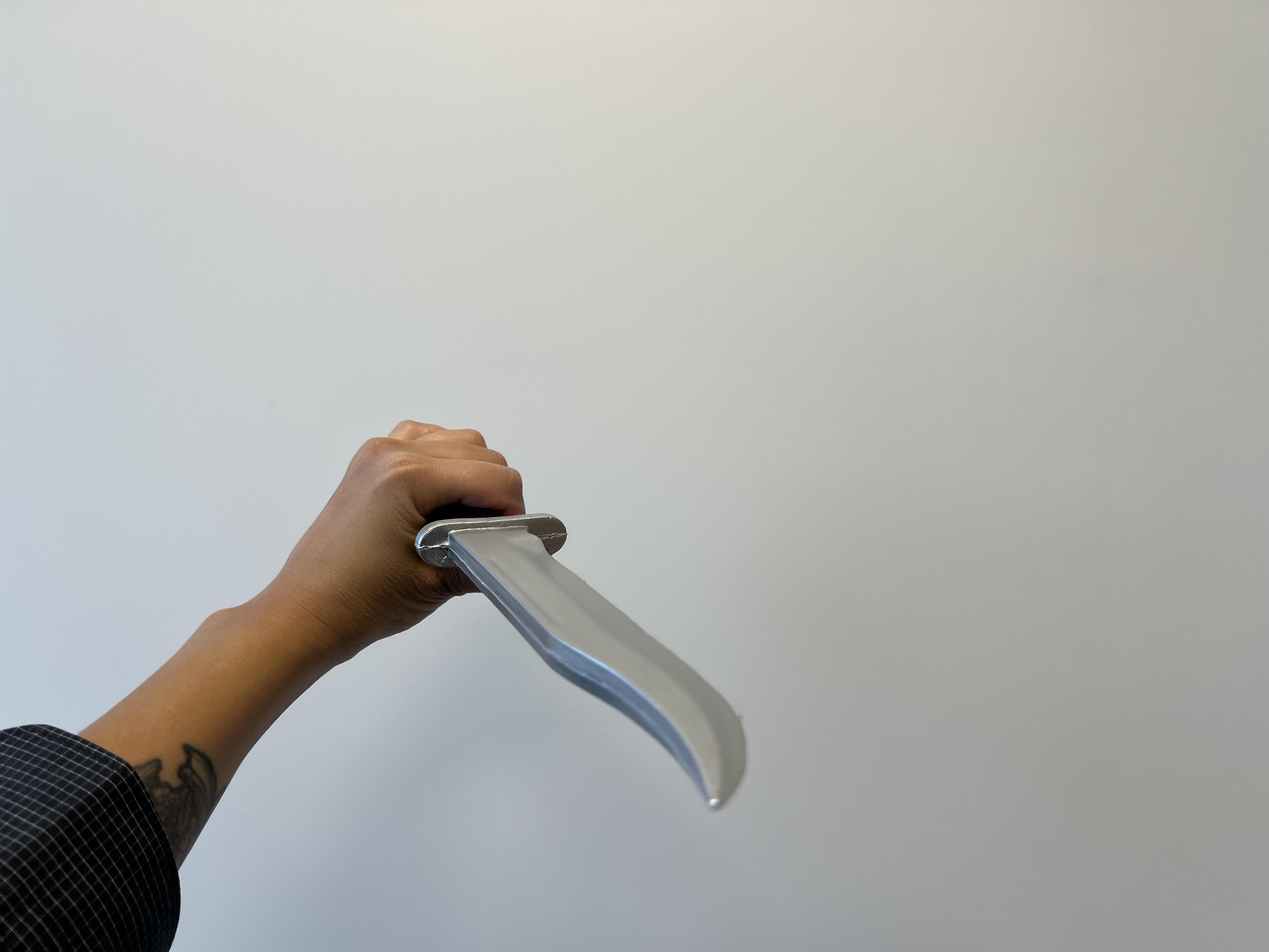Knife: (0, 421, 526, 952), (416, 509, 747, 811), (324, 422, 534, 620)
